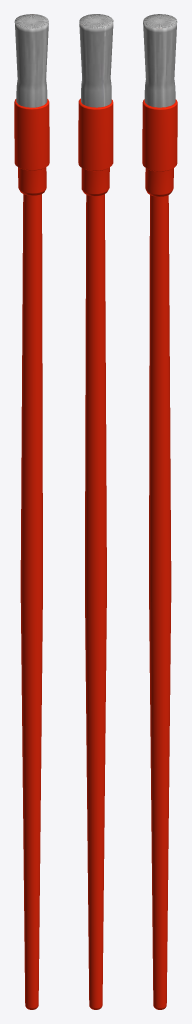
File: brush.glb
3 renders of one model, left to right at view 1: azimuth 90°, elevation 25°; view 2: azimuth 210°, elevation 25°; view 3: azimuth 270°, elevation 25°, orthographic.
Visible parts, largest first — view 1: brush; view 2: brush; view 3: brush.
Part boxes in pixels (left/top/right/bottom): brush: left=14, top=14, right=49, bottom=1009; brush: left=78, top=14, right=113, bottom=1009; brush: left=142, top=14, right=177, bottom=1009.
Bounding box in the file's own units: 0.1061 × 3.26 × 0.1057.
1 material, 1 textured.
